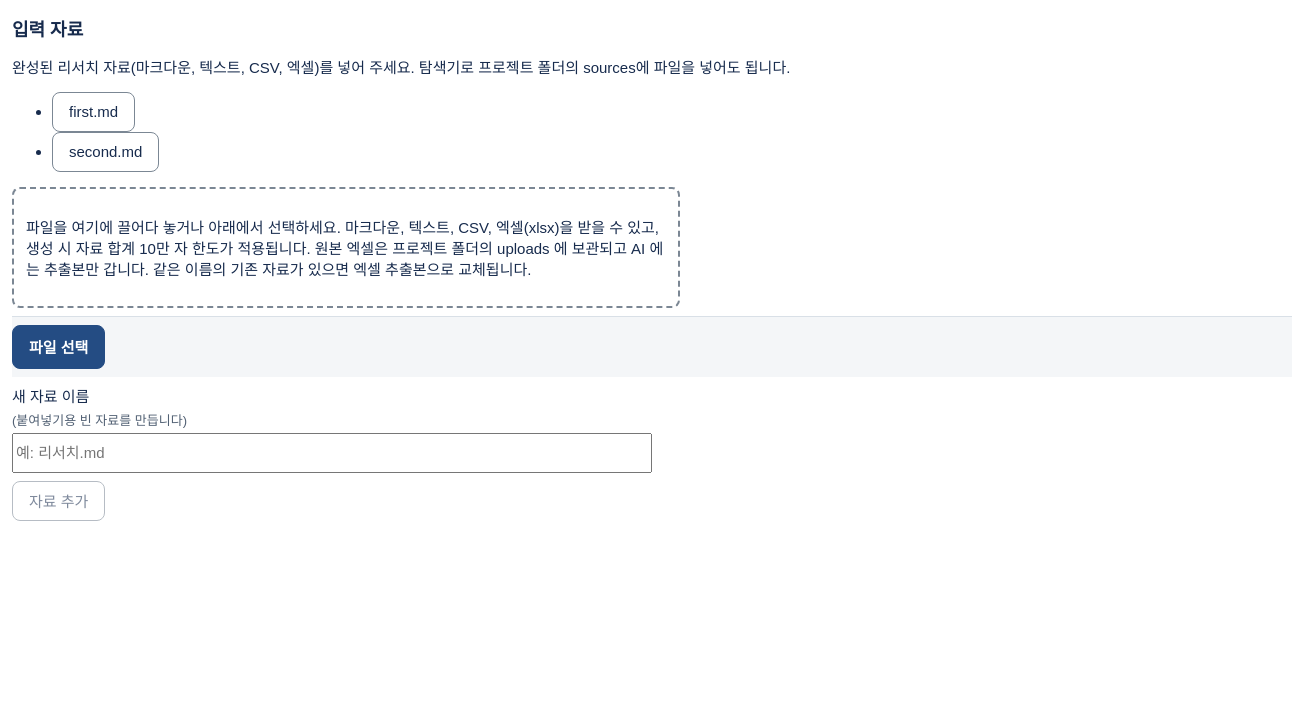
Test: 자료 선택이 바뀌면 먼저 요청한 파일의 늦은 응답을 버린다
Click the button "first.md" at (94, 112), box [52,92,135,132]
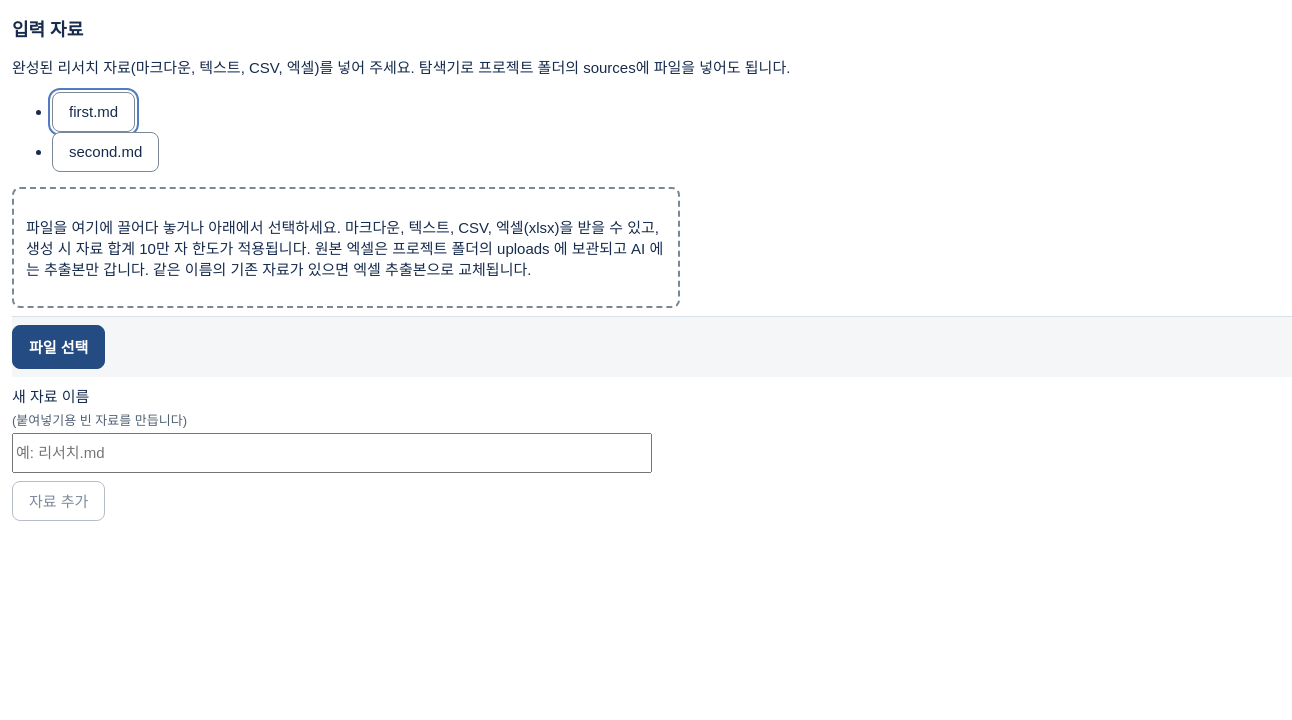
Click the button "second.md" at (106, 152), box [52,132,159,172]
(page scrolled)
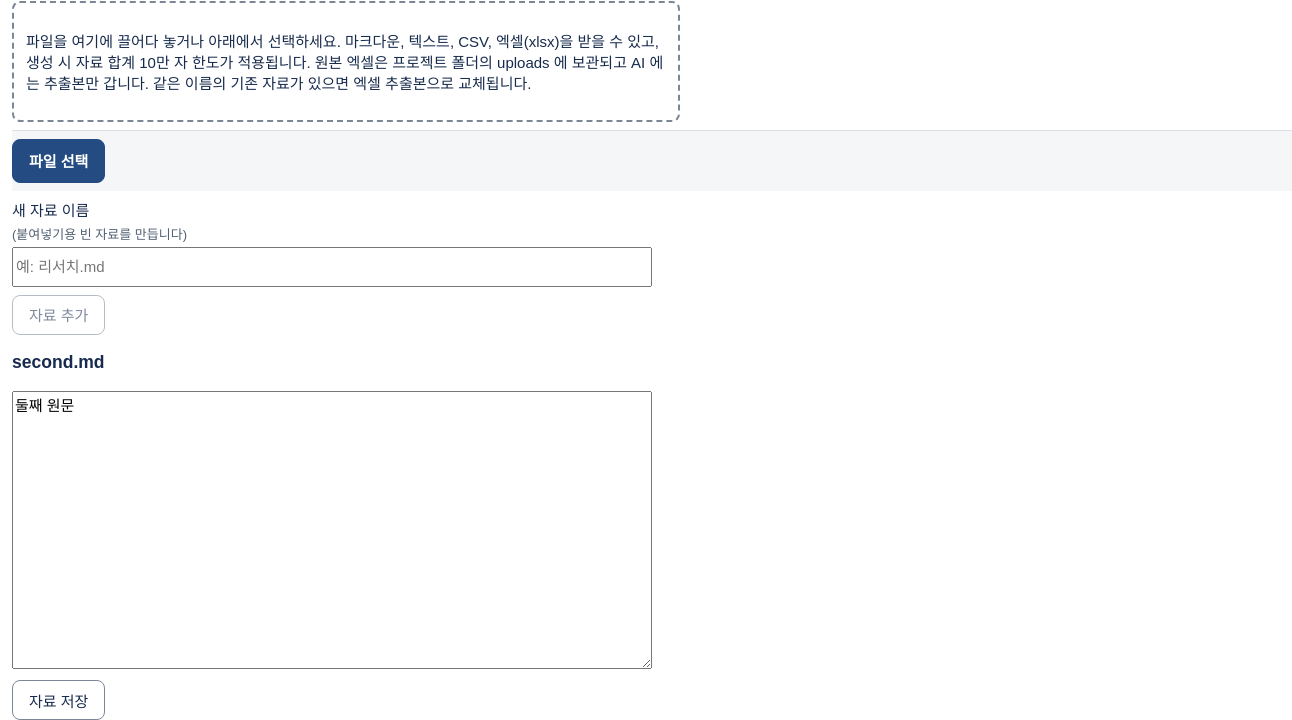
Expected: the text box named "자료 내용" holds "둘째 원문", [12,391,652,669]
